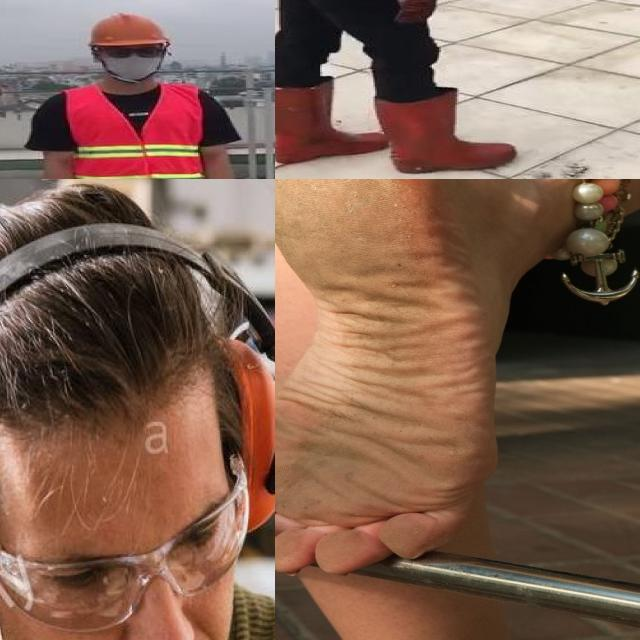Barefoots: (275, 179, 508, 574)
Ear-protection: (0, 204, 275, 640)
boots: (372, 89, 516, 175), (275, 81, 386, 162)
face_mask: (98, 44, 168, 79)
glasses: (0, 457, 251, 632), (94, 42, 169, 62)
hand_glove: (391, 0, 441, 24)
head_helmet: (81, 11, 176, 50)
person: (275, 0, 521, 178), (21, 12, 245, 179)
vest: (63, 82, 214, 179)
